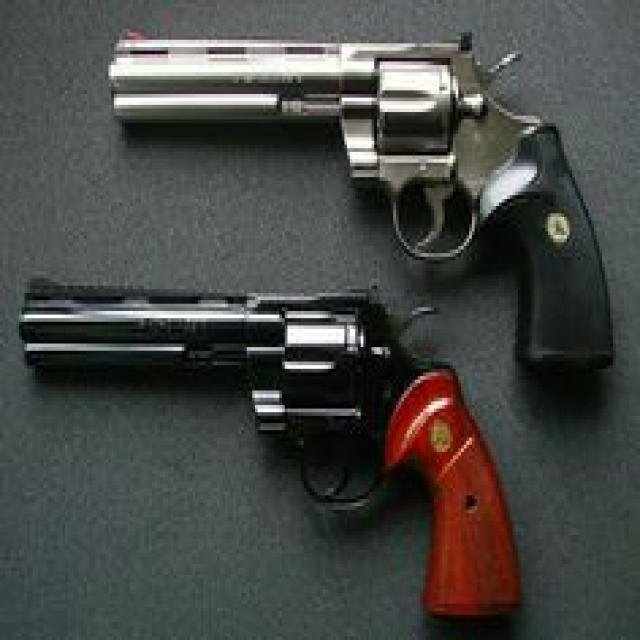revolver: (0, 260, 540, 640)
